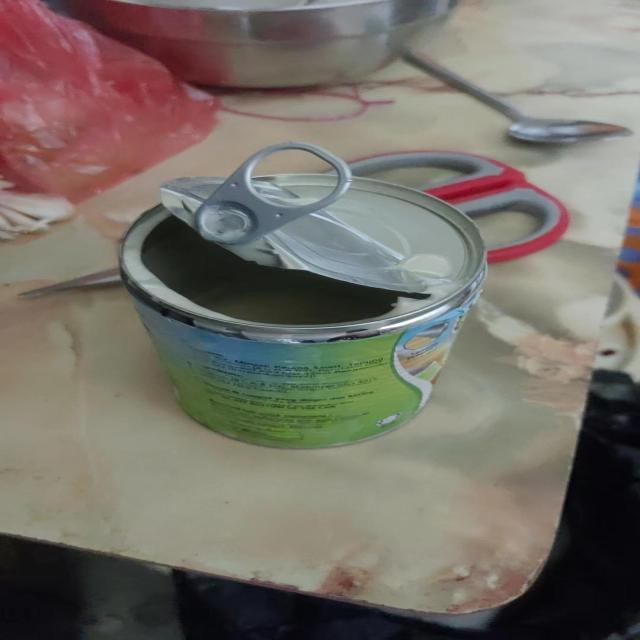can: (116, 142, 488, 452)
pop tab: (191, 144, 353, 246)
